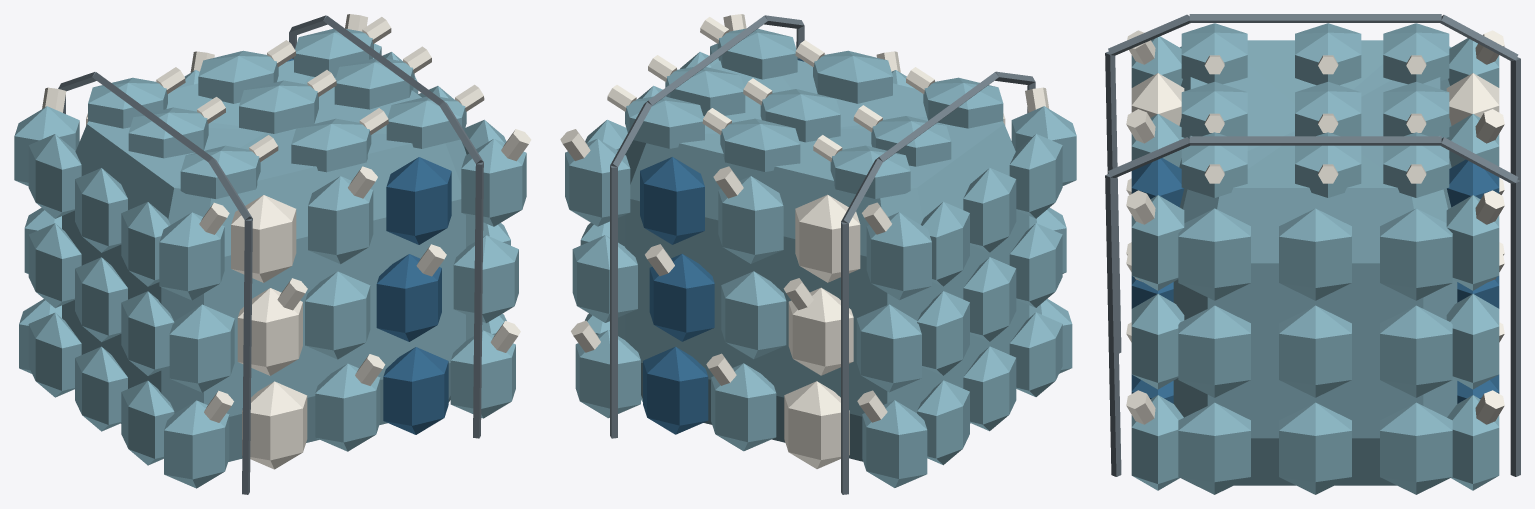
The model's file is b04_baled_plastic_bottles.glb.
3 renders of one model, left to right at view 1: azimuth 30°, elevation 25°; view 2: azimuth 150°, elevation 25°; view 3: azimuth 270°, elevation 25°, orthographic. The views are drawn at different scales.
Parts seen in each view (by area): view 1: b04_baled_plastic_bottles; view 2: b04_baled_plastic_bottles; view 3: b04_baled_plastic_bottles.
Boxes of the visible parts, x1,y1,x2,y2 form: b04_baled_plastic_bottles: [14, 14, 531, 494]; b04_baled_plastic_bottles: [560, 14, 1076, 494]; b04_baled_plastic_bottles: [1105, 14, 1520, 494].
Size of the model in its own units: 0.7479 by 0.597 by 0.66.
